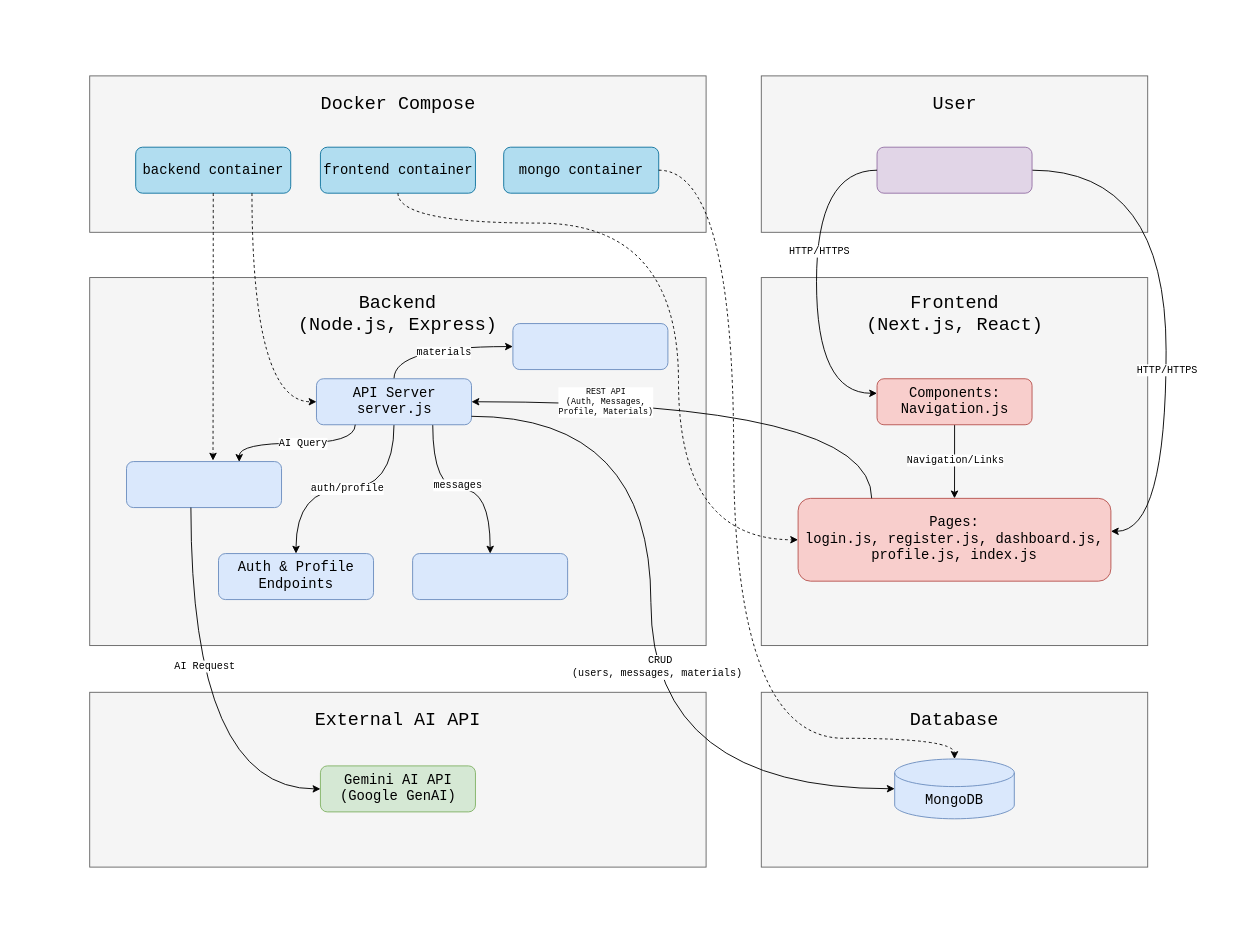
The diagram is 1255 pixels wide and 948 high, and some of its shapes have lost their labels. Here are the shapes that lost their labels. From the top down, the centre of each, then its label:
the point at 954,169: Browser/Client
the point at 590,346: Learning Material Endpoints
the point at 204,484: AI Service aiService.js
the point at 490,576: Message Endpoints
